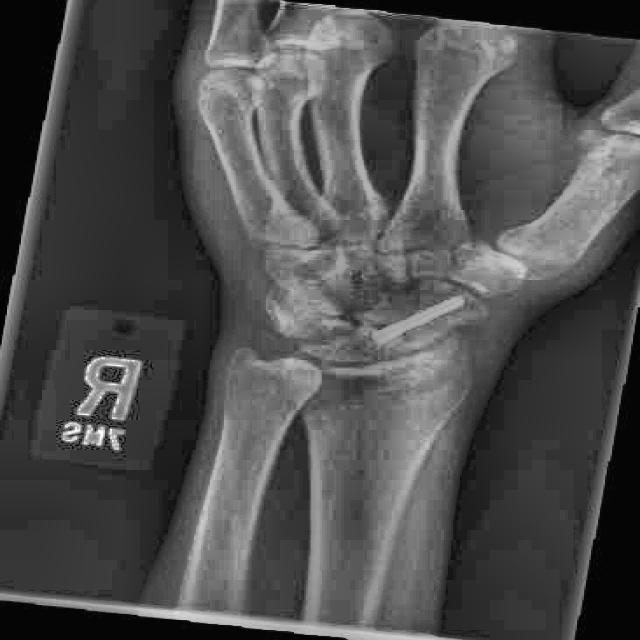wrist positive: (265, 317, 393, 372)
